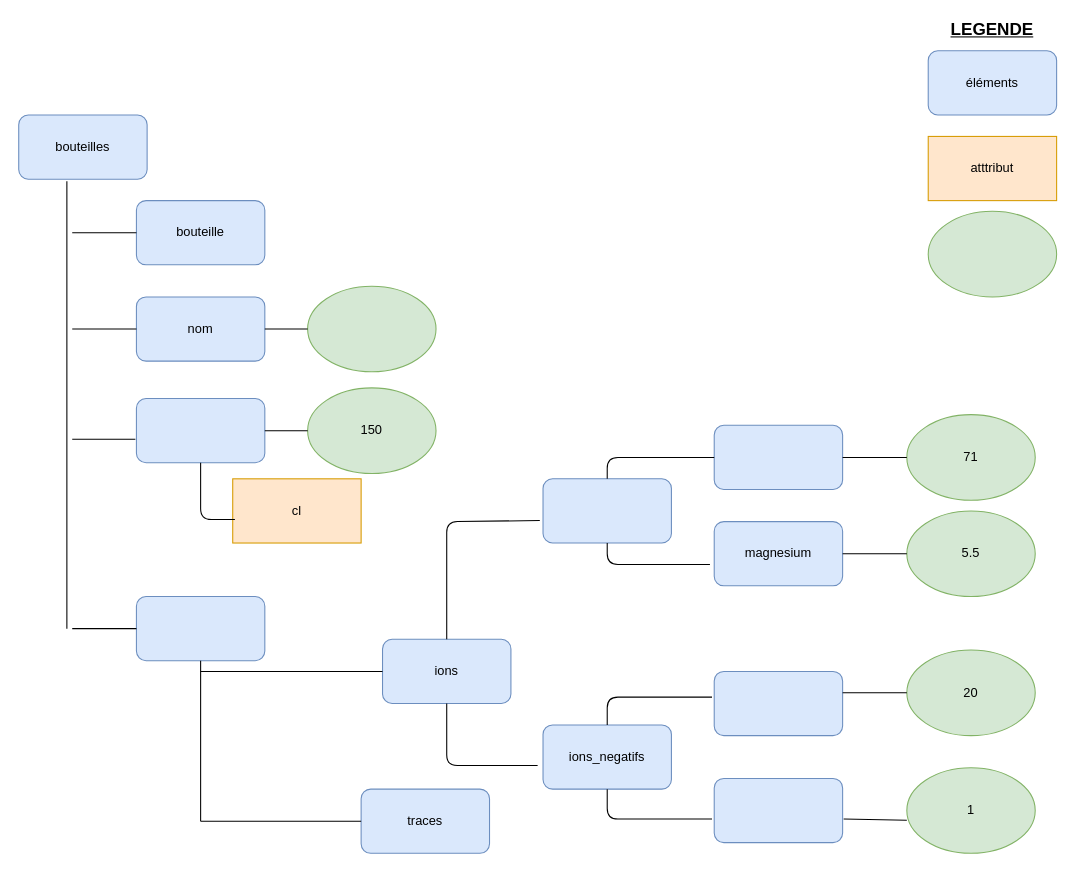
This 1075x872 diagram has some shape labels left out. The shapes that lost their labels are listed below. From the top down, each one's centre as x and y in pixels, then its label:
(992,253): valeur
(371,328): Eau Christalline
(200,430): contenance
(778,457): calcium
(606,510): ions_positifs
(200,628): composition
(778,703): chlorures
(778,810): nitrates
